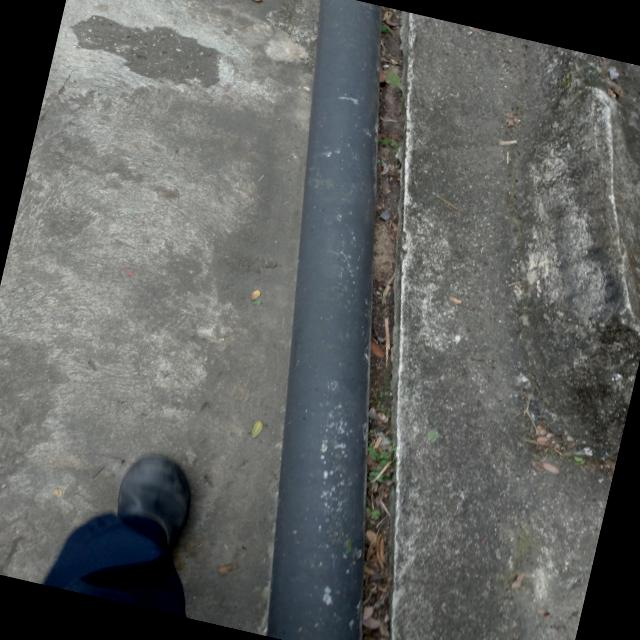gas: (271, 0, 379, 640)
